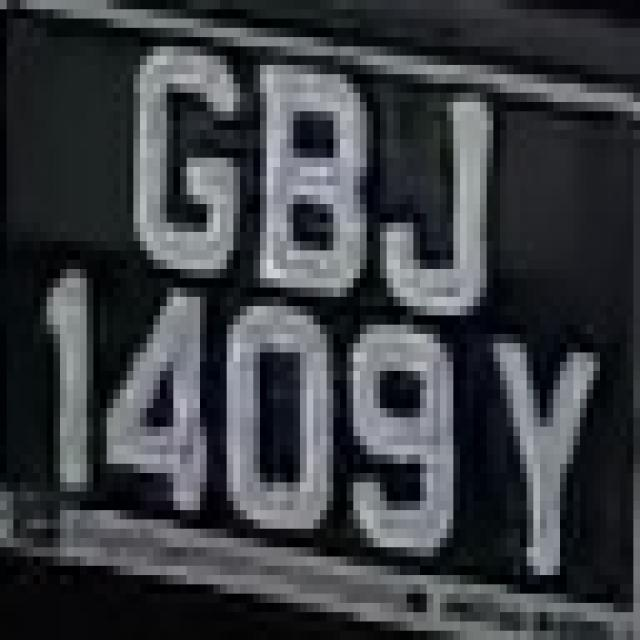0: (220, 269, 333, 575)
1: (53, 213, 107, 510)
4: (100, 250, 227, 556)
9: (326, 278, 486, 622)
B: (234, 37, 374, 334)
G: (107, 10, 260, 278)
J: (366, 65, 506, 334)
Y: (493, 288, 607, 584)
